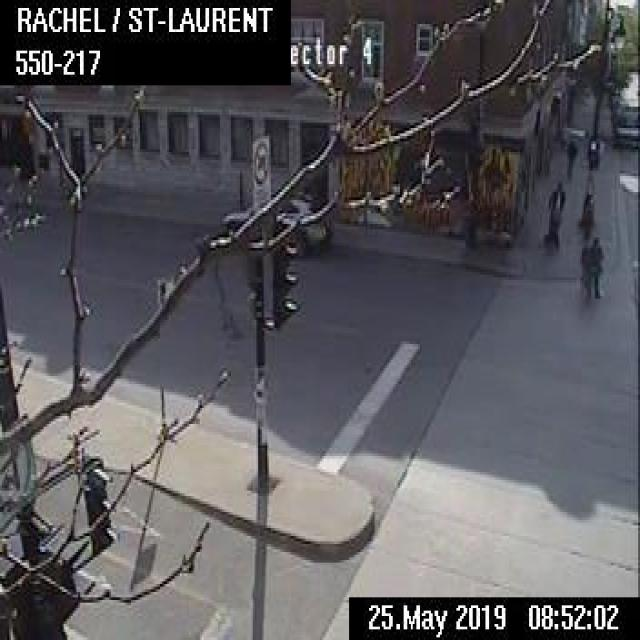bus: (611, 67, 638, 152)
pedestrian: (543, 181, 563, 250), (589, 234, 604, 295), (578, 186, 594, 236), (580, 242, 594, 299), (563, 135, 576, 181)
vehicle: (217, 186, 331, 253)
